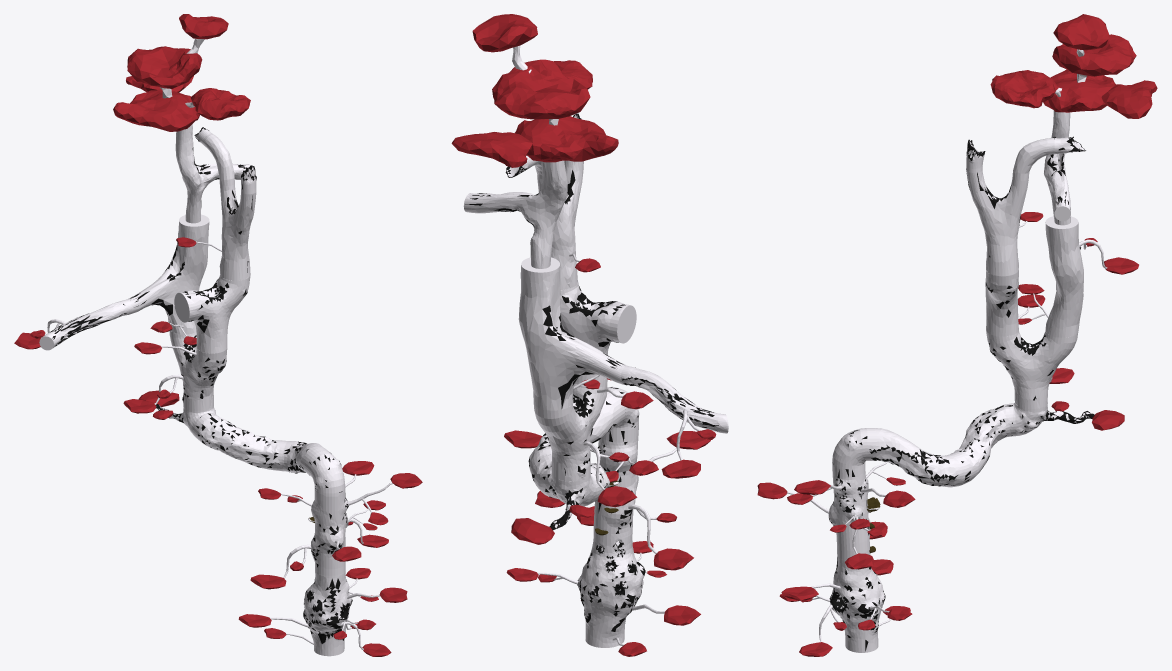
The model's file is Tree.obj.
3 renders of one model, left to right at view 1: azimuth 30°, elevation 25°; view 2: azimuth 150°, elevation 25°; view 3: azimuth 270°, elevation 25°, orthographic. The views are drawn at different scales.
Visible parts, largest first — view 1: Icosphere.003, ForkMixedAngle_Cylinder.021, Cylinder.004_Cylinder.001, Horazontal2_Cylinder.009, Fork.001_Cylinder.013, Cylinder, ForkMixedAngle.003_Cylinder.025, Fork_Cylinder.020, ForkMixedAngle.002_Cylinder.033, Horazontal.001_Cylinder.027, BendToHorazontal_Cylinder.003, ForkMixedAngle.001_Cylinder.022 (+6 smaller); view 2: Icosphere.003, Cylinder.004_Cylinder.001, ForkMixedAngle.003_Cylinder.025, ForkMixedAngle.002_Cylinder.033, Fork_Cylinder.020, ForkMixedAngle_Cylinder.021, Cylinder, ForkMixedAngle.001_Cylinder.022, BendToVerticle_Cylinder.004, Fork.001_Cylinder.013, Horazontal.001_Cylinder.027, Horazontal_Cylinder.006 (+11 smaller); view 3: Icosphere.003, Fork_Cylinder.020, Fork.001_Cylinder.013, Cylinder.004_Cylinder.001, Horazontal_Cylinder.006, Cylinder, ForkMixedAngle.003_Cylinder.025, Horazontal2_Cylinder.009, ForkMixedAngle_Cylinder.021, BendToVerticle_Cylinder.004, ForkMixedAngle.002_Cylinder.033, BendToHorazontal_Cylinder.003 (+6 smaller).
Boxes of the visible parts, x1,y1,x2,y2 form: Icosphere.003: [113, 14, 250, 131]; ForkMixedAngle_Cylinder.021: [174, 274, 250, 353]; Cylinder.004_Cylinder.001: [303, 570, 352, 656]; Horazontal2_Cylinder.009: [194, 413, 286, 471]; Fork.001_Cylinder.013: [219, 183, 256, 280]; Cylinder: [311, 488, 348, 575]; ForkMixedAngle.003_Cylinder.025: [148, 214, 209, 297]; Fork_Cylinder.020: [169, 330, 227, 411]; ForkMixedAngle.002_Cylinder.033: [175, 124, 250, 223]; Horazontal.001_Cylinder.027: [39, 299, 131, 350]; BendToHorazontal_Cylinder.003: [308, 451, 345, 494]; ForkMixedAngle.001_Cylinder.022: [127, 283, 196, 334]; Icosphere.003: [451, 14, 618, 167]; Cylinder.004_Cylinder.001: [577, 531, 645, 647]; ForkMixedAngle.003_Cylinder.025: [518, 257, 597, 372]; ForkMixedAngle.002_Cylinder.033: [463, 160, 567, 268]; Fork_Cylinder.020: [533, 378, 607, 481]; ForkMixedAngle_Cylinder.021: [560, 281, 636, 382]; Cylinder: [593, 423, 638, 538]; ForkMixedAngle.001_Cylinder.022: [529, 266, 626, 410]; BendToVerticle_Cylinder.004: [511, 473, 598, 544]; Fork.001_Cylinder.013: [537, 160, 583, 289]; Horazontal.001_Cylinder.027: [620, 365, 728, 433]; Horazontal_Cylinder.006: [528, 392, 625, 476]; Icosphere.003: [990, 14, 1157, 118]; Fork_Cylinder.020: [986, 330, 1078, 408]; Fork.001_Cylinder.013: [966, 170, 1028, 276]; Cylinder.004_Cylinder.001: [829, 554, 885, 652]; Horazontal_Cylinder.006: [867, 428, 965, 487]; Cylinder: [828, 463, 870, 560]; ForkMixedAngle.003_Cylinder.025: [1045, 216, 1083, 309]; Horazontal2_Cylinder.009: [950, 403, 1012, 485]; ForkMixedAngle_Cylinder.021: [985, 260, 1018, 336]; BendToVerticle_Cylinder.004: [1013, 401, 1124, 436]; ForkMixedAngle.002_Cylinder.033: [1044, 110, 1070, 225]; BendToHorazontal_Cylinder.003: [832, 428, 867, 469].
Bounding box in the file's own units: 9.81 × 20.39 × 12.1.
